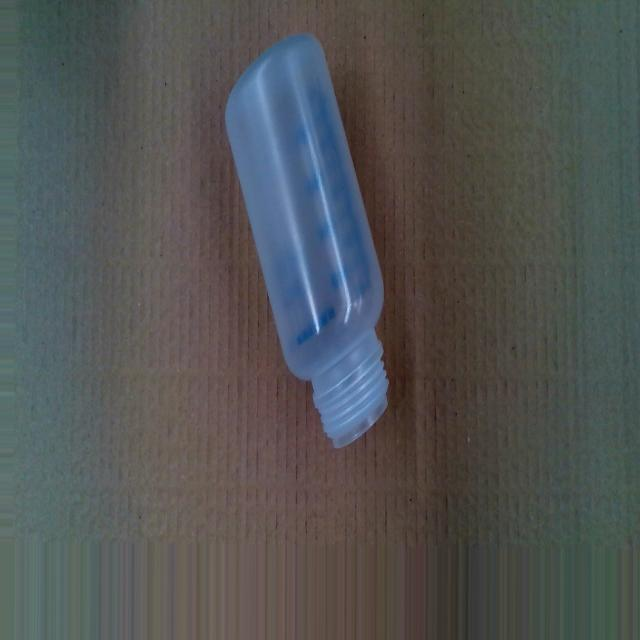bottle: (219, 22, 398, 454)
